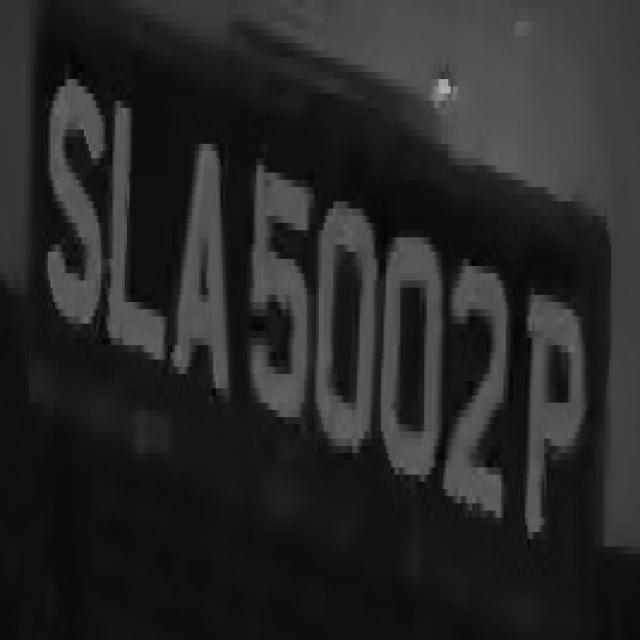0: (381, 180, 446, 532), (309, 151, 376, 489)
2: (453, 237, 518, 561)
5: (252, 101, 314, 453)
A: (170, 94, 242, 417)
L: (108, 64, 168, 396)
P: (520, 259, 592, 546)
S: (41, 65, 108, 374)
